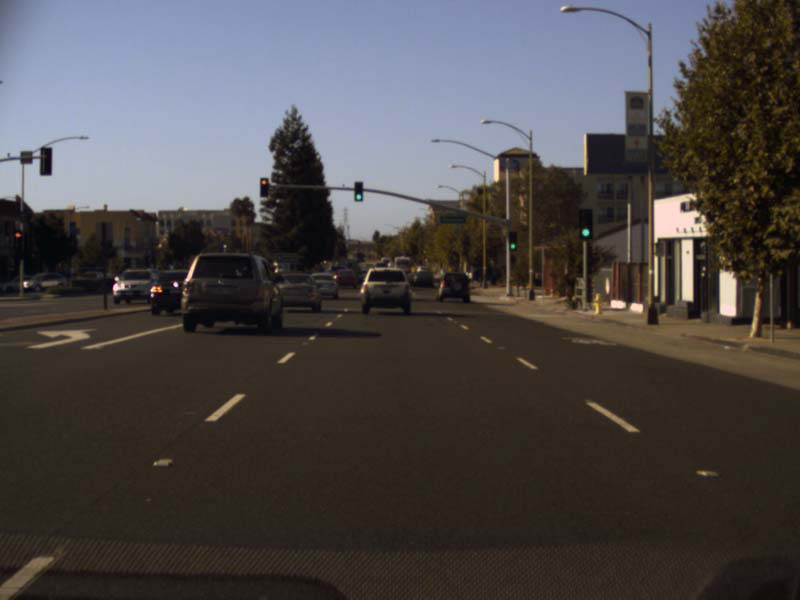Green: (577, 208, 592, 239), (507, 231, 517, 250), (353, 181, 362, 201)
Red: (13, 230, 23, 249), (259, 178, 267, 196)
